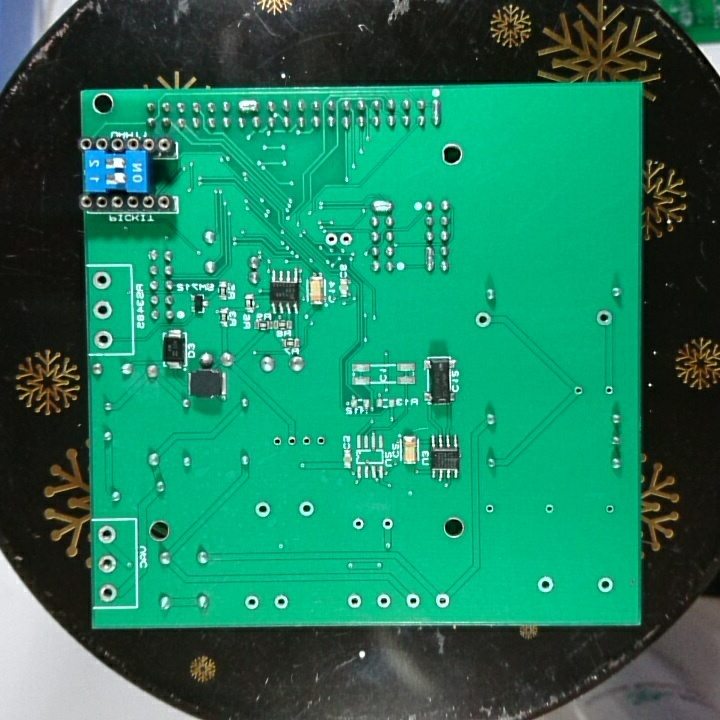F: (91, 328, 115, 352), (95, 523, 118, 548), (91, 299, 114, 322), (91, 269, 114, 292), (534, 573, 557, 595), (251, 499, 274, 521), (97, 553, 119, 576), (595, 576, 617, 596), (97, 583, 119, 603), (473, 309, 494, 329), (296, 499, 317, 519), (271, 592, 291, 613), (594, 308, 614, 328), (242, 592, 262, 612), (403, 591, 422, 612), (374, 592, 393, 612), (433, 591, 451, 611), (345, 592, 364, 610), (379, 515, 396, 534), (322, 230, 338, 249), (338, 230, 354, 249), (350, 515, 366, 533), (313, 432, 328, 451), (269, 432, 283, 452), (285, 432, 299, 452), (299, 432, 313, 451), (482, 500, 496, 518), (602, 501, 617, 517), (571, 382, 585, 399), (542, 501, 556, 517), (602, 381, 615, 398)
P: (429, 98, 444, 129), (235, 98, 262, 115), (369, 198, 396, 214), (423, 243, 437, 273)
